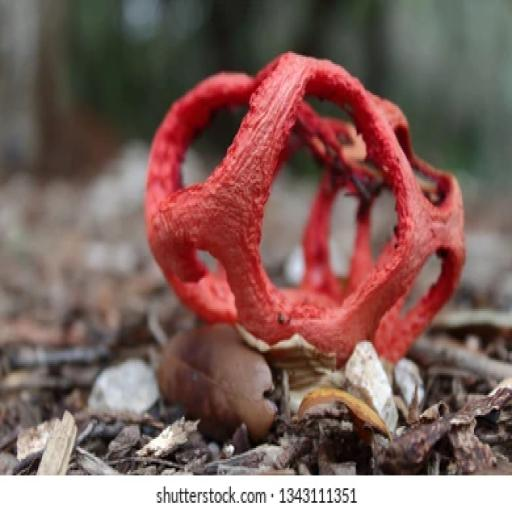Red Cage Fungus: (145, 55, 465, 448)
